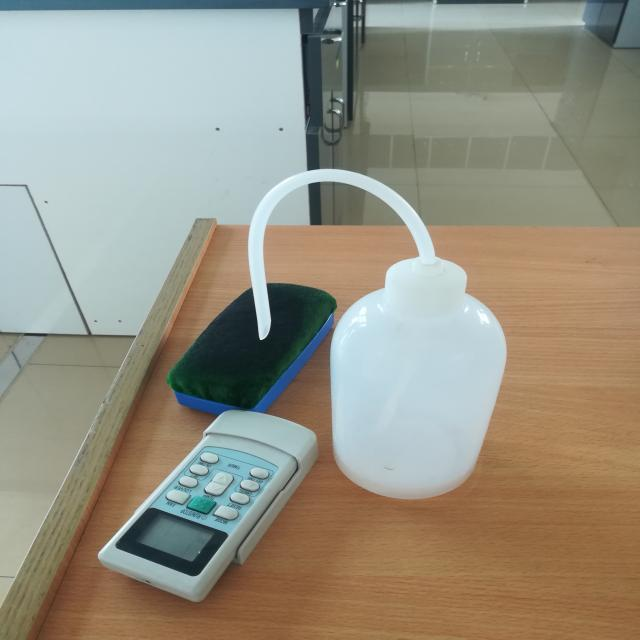Wash_Bottle: (211, 124, 535, 537)
